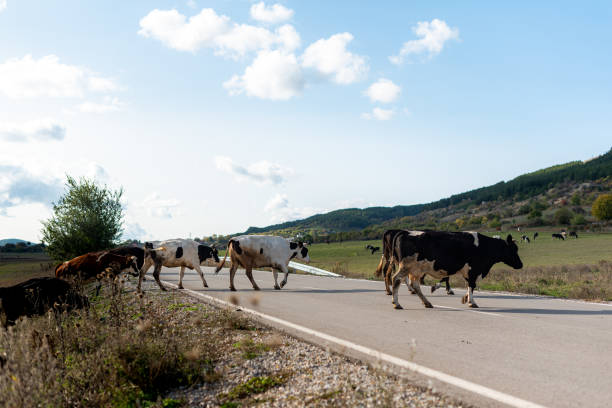inek: (373, 225, 527, 305), (224, 228, 312, 300), (58, 252, 159, 311), (7, 274, 88, 345), (142, 238, 238, 289)
